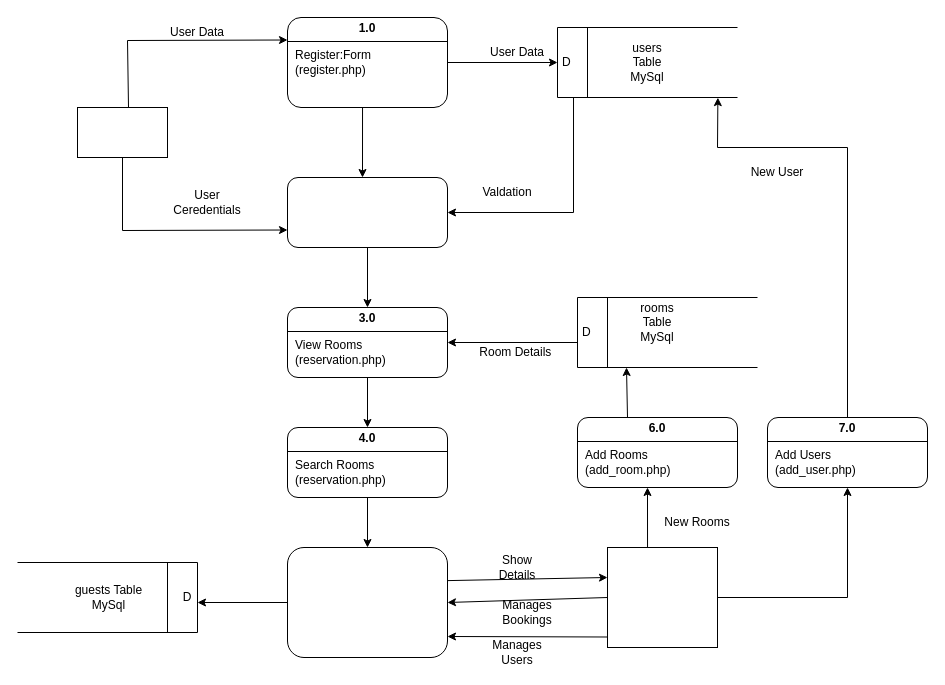
Image size: 945x685. Some labels were removed from this diagram. The shapes that lost their labels are listed below. From the top down, each one's box as (x1, y1, x2, y2) in pixels, then its label:
(76, 106, 168, 158): User
(286, 176, 448, 248): 2.0 Login (login.php)
(286, 546, 448, 658): 5.0 Book Rooms (add_reserve.php)
(606, 546, 718, 648): Admin
